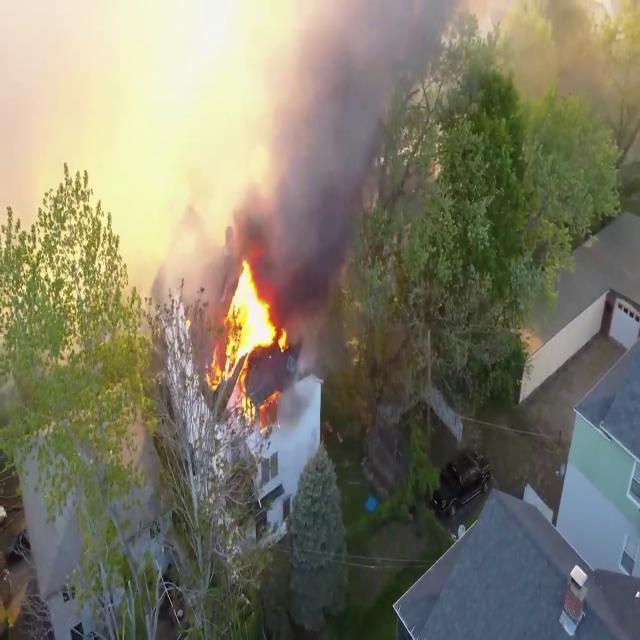Fire: (209, 255, 285, 412)
Smoke: (226, 0, 444, 317)
